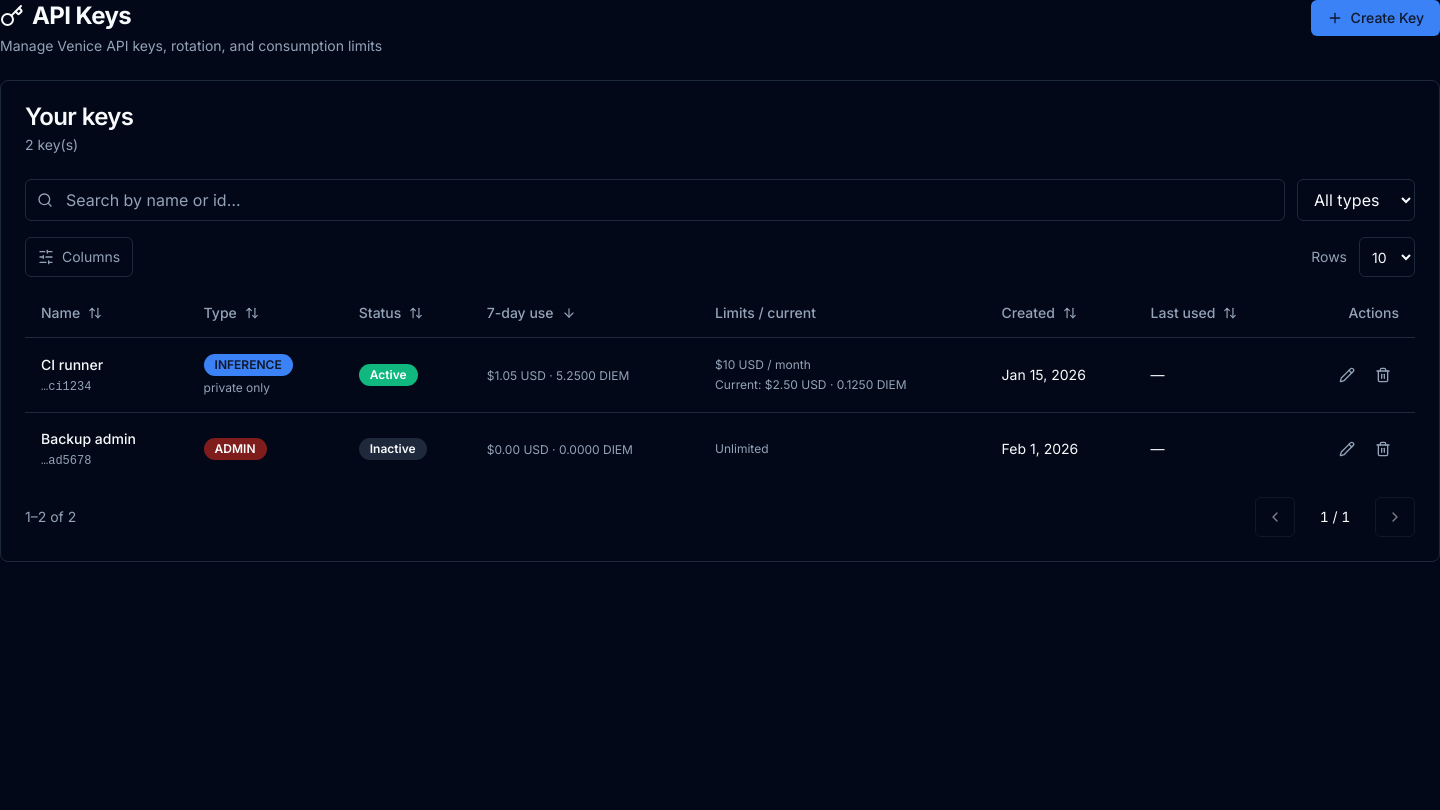
Test: ApiKeysView — delete flow › does not delete on cancel
This screenshot has width=1440, height=810.
What coordinates should you click on to do the following:
click the button named "delete backup admin"
I would click on:
 (1383, 448)
Its box is [1367, 432, 1399, 464].
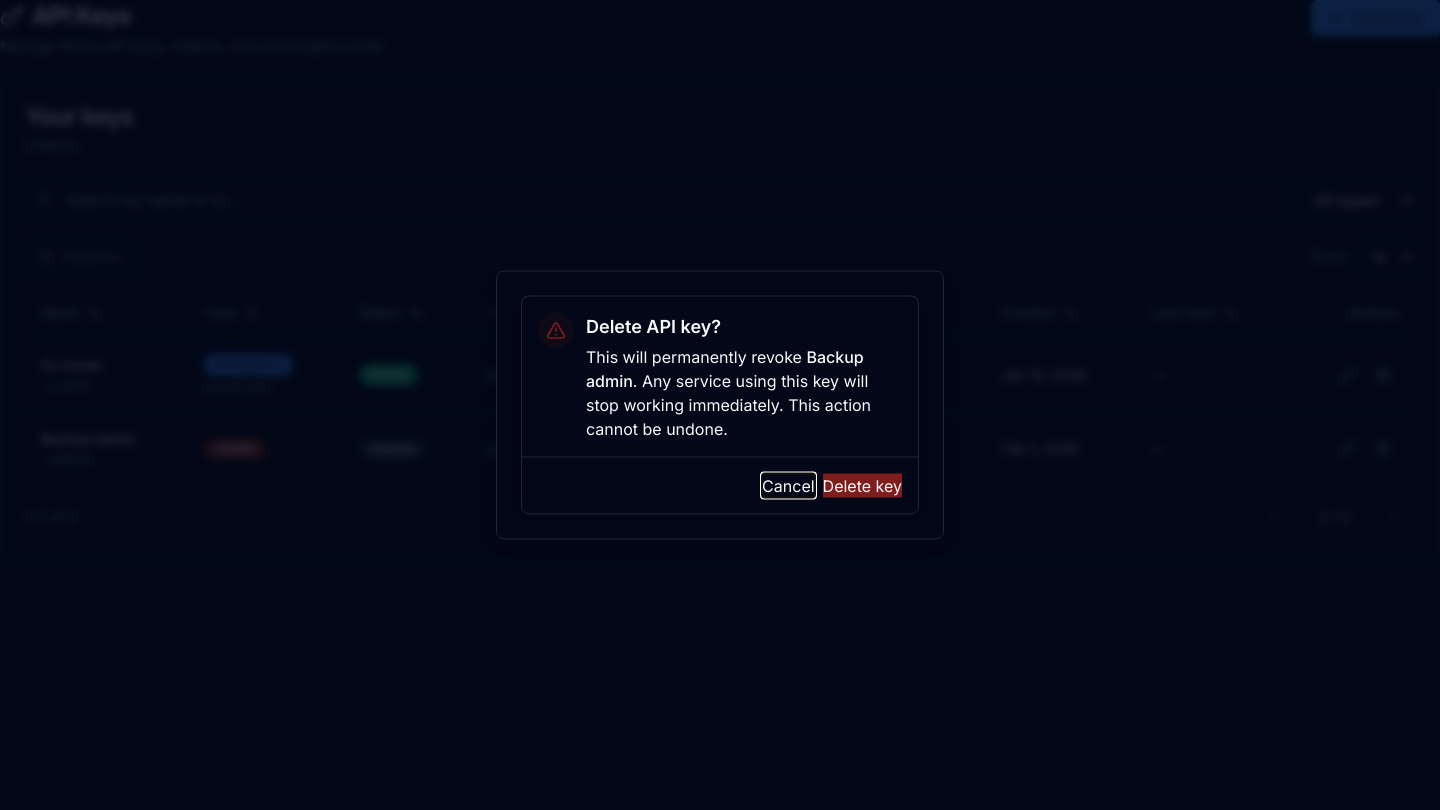
What coordinates should you click on to do the following:
click the button "Cancel"
I would click on:
 (788, 486)
Its box is [762, 474, 815, 498].
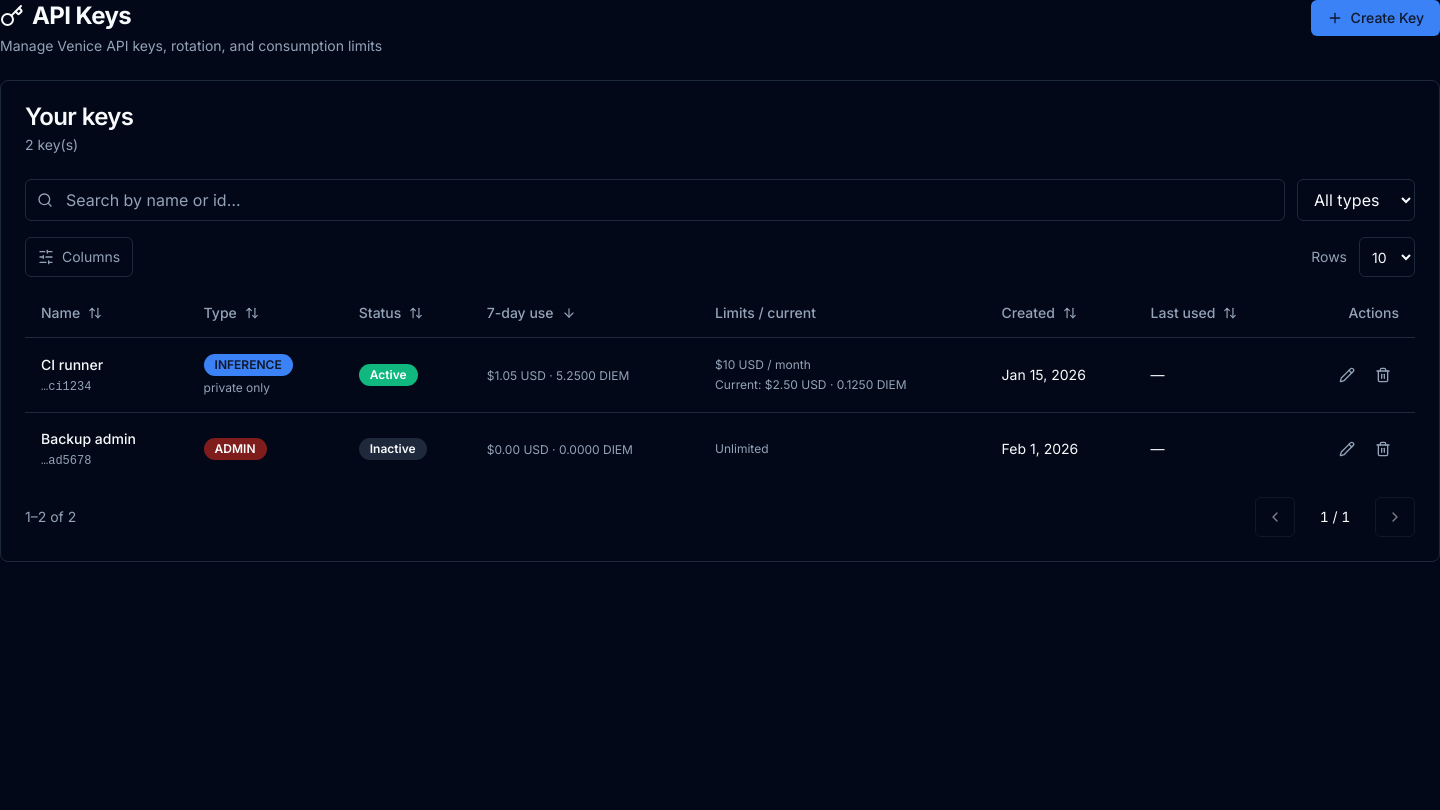
Now the heading "Delete API key" is gone
